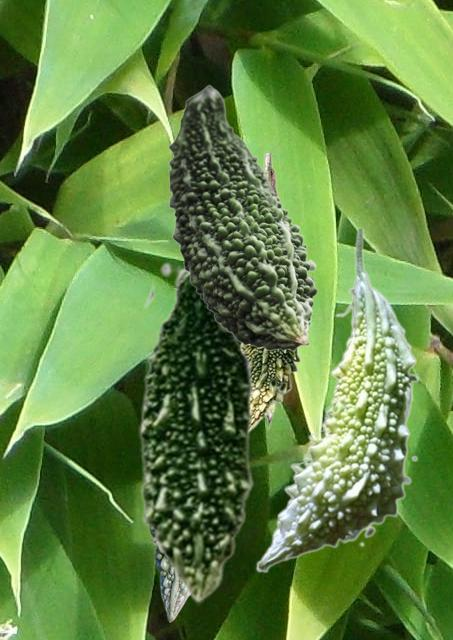ampalaya: (255, 229, 419, 572), (138, 261, 261, 604), (168, 84, 317, 350), (241, 153, 301, 430), (149, 528, 188, 621)
